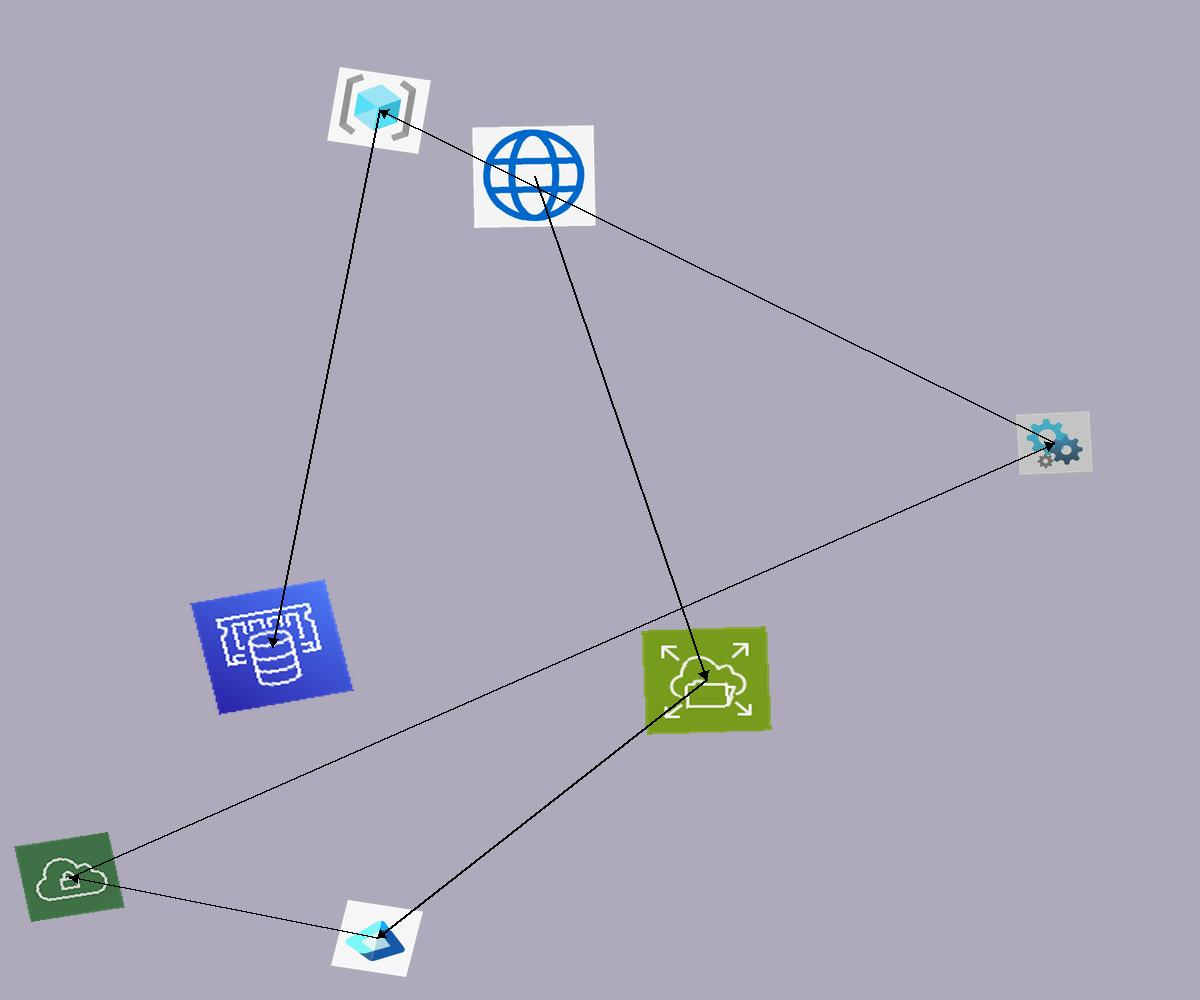AWS-EFS: (641, 626, 772, 735)
AWS-ElastiCache: (190, 579, 354, 715)
AWS-Private_vpc: (14, 831, 125, 923)
Azure_api: (1016, 411, 1093, 475)
Azure_http: (472, 125, 596, 228)
Azure_microsoft_entra: (331, 900, 423, 977)
Azure_resource_group: (327, 67, 431, 154)
